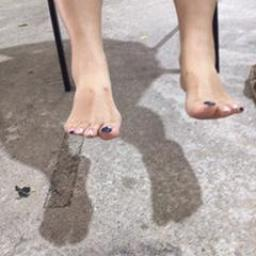Front View -Both Feet-: (52, 14, 246, 149)
